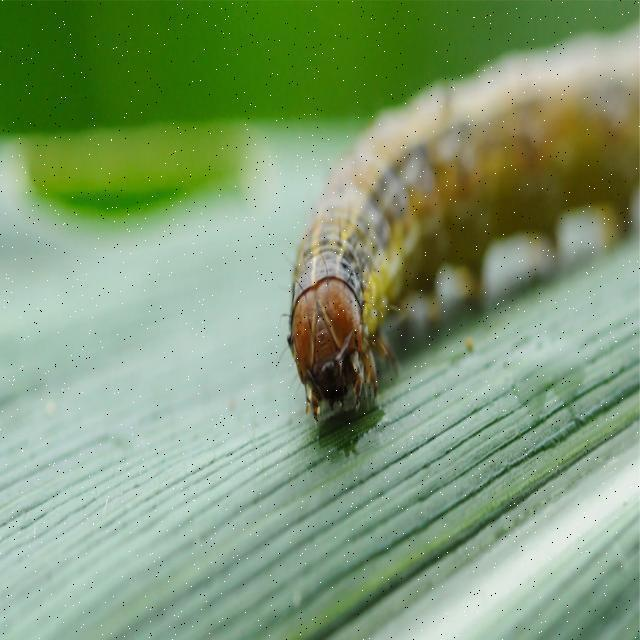army worm: (234, 47, 632, 483)
